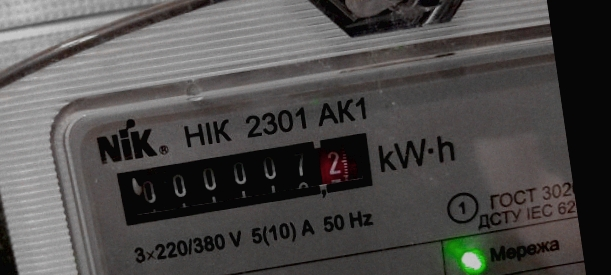0: (198, 163, 220, 192), (169, 169, 190, 199), (138, 176, 159, 205), (259, 151, 279, 181), (230, 157, 248, 186)
2: (324, 146, 344, 177)
7: (289, 148, 309, 179)
screen: (107, 122, 387, 232)
